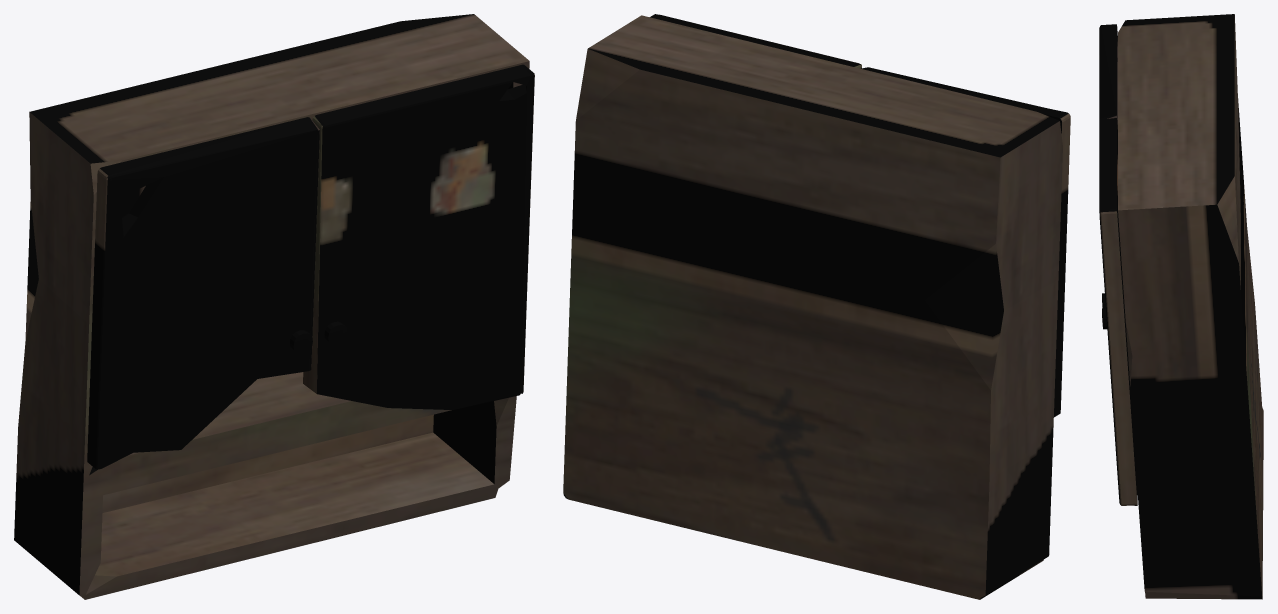
File: Cajonera 1.fbx
3 renders of one model, left to right at view 1: azimuth 30°, elevation 25°; view 2: azimuth 150°, elevation 25°; view 3: azimuth 270°, elevation 25°, orthographic. The views are drawn at different scales.
Visible parts, largest first — view 1: Cube.015; view 2: Cube.015; view 3: Cube.015.
Boxes of the visible parts, box(x1,y1,x2,y2) form: Cube.015: box(14, 14, 534, 599); Cube.015: box(563, 14, 1070, 599); Cube.015: box(1099, 14, 1263, 599).
Size of the model in its own units: 171 by 169 by 62.27.
